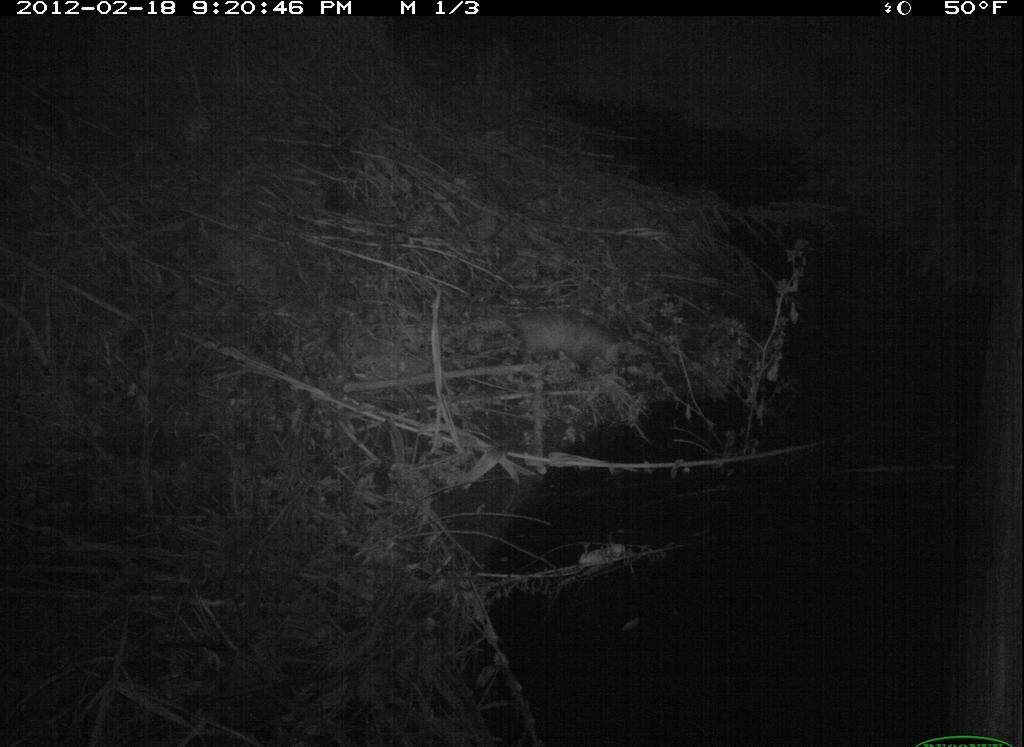opossum: (464, 289, 658, 390)
